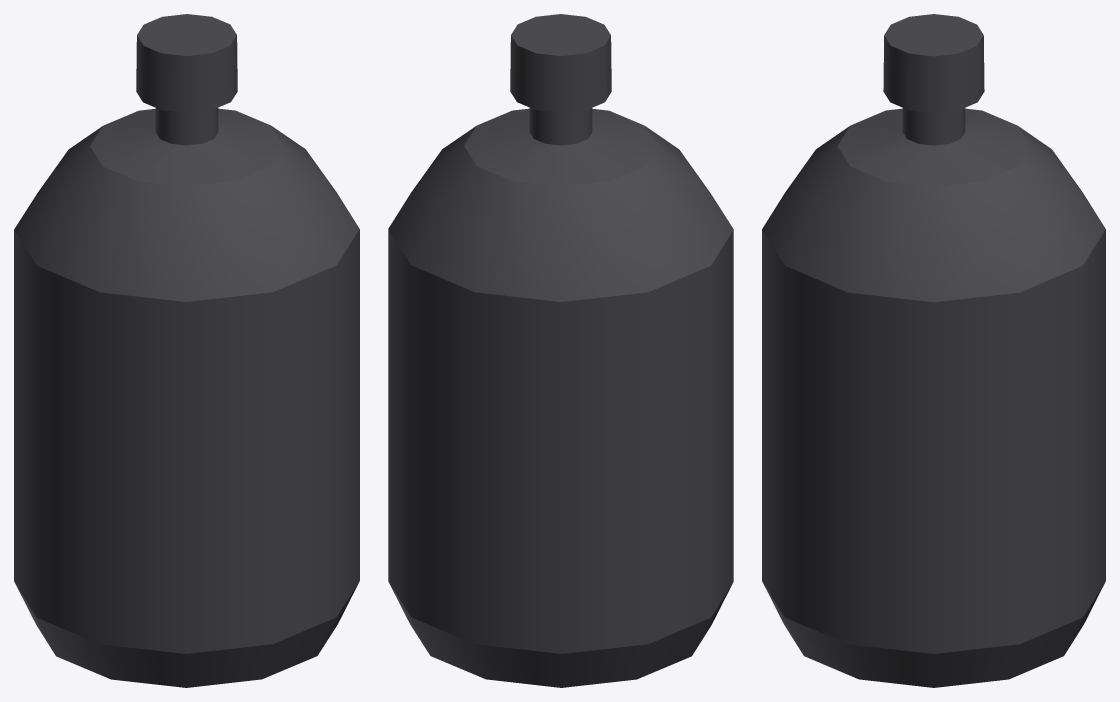
Rendered from Garbage bags.fbx.
The picture shows the model from 3 angles, left to right: view 1: azimuth 30°, elevation 25°; view 2: azimuth 150°, elevation 25°; view 3: azimuth 270°, elevation 25°; orthographic projection.
Parts seen in each view (by area): view 1: Cylinder001; view 2: Cylinder001; view 3: Cylinder001.
Boxes of the visible parts, x1,y1,x2,y2 form: Cylinder001: (14,14,359,687); Cylinder001: (388,14,733,687); Cylinder001: (762,14,1105,687).
Bounding box in the file's own units: 20.56 × 38.61 × 20.44.
